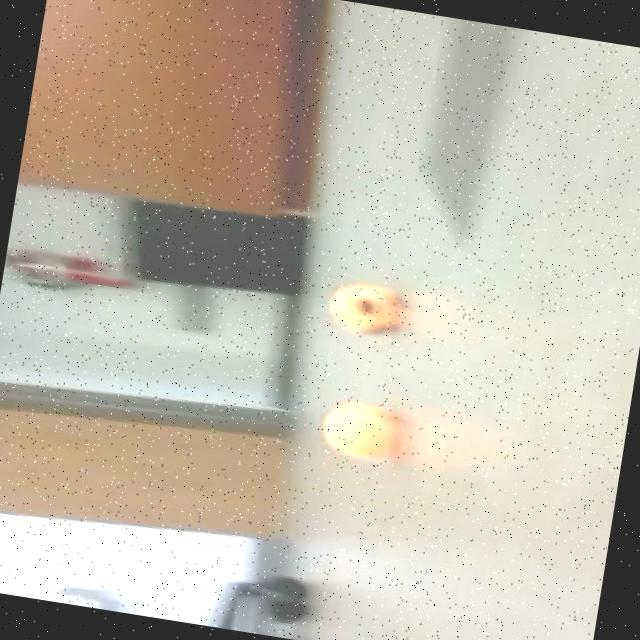ping-pong-ball: (323, 270, 415, 348), (314, 391, 406, 468)
